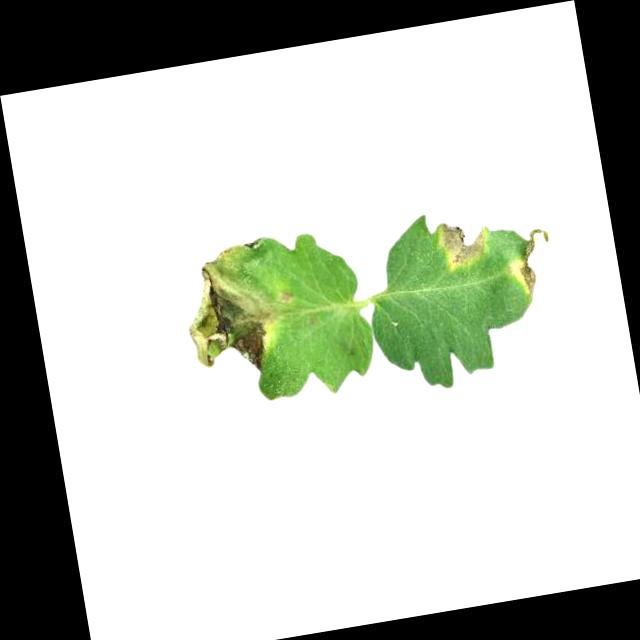Late_blight: (173, 235, 303, 382), (502, 224, 560, 303), (437, 213, 496, 270)
